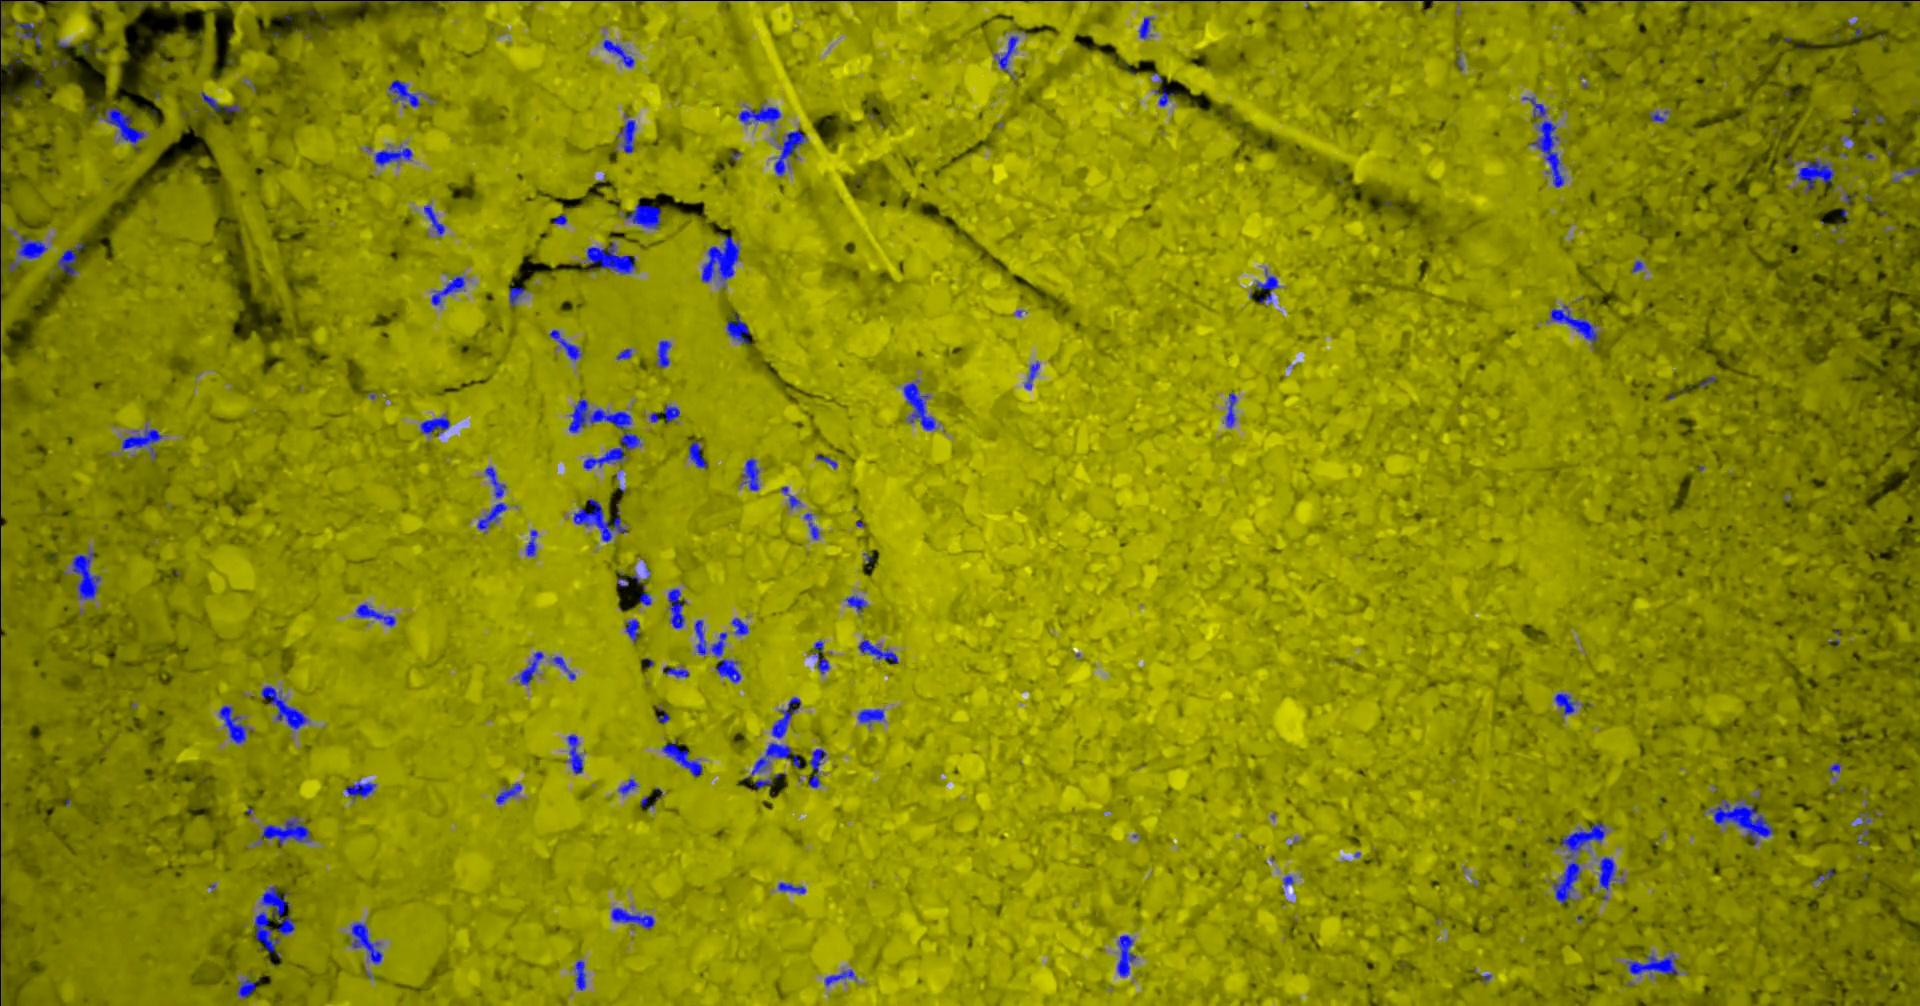ant: (1521, 97, 1564, 187), (695, 619, 740, 682), (573, 498, 627, 541), (260, 685, 307, 729), (1550, 305, 1597, 345), (103, 107, 143, 151), (701, 235, 739, 282), (750, 742, 801, 776), (260, 885, 295, 935), (902, 382, 935, 431), (585, 241, 635, 273), (775, 130, 806, 177), (662, 741, 702, 776), (71, 551, 100, 600), (8, 235, 47, 271), (121, 426, 163, 459), (1796, 158, 1834, 193), (260, 817, 310, 843), (350, 922, 382, 963), (218, 705, 251, 743), (1625, 951, 1677, 976), (253, 911, 279, 956), (771, 696, 800, 737), (549, 329, 582, 359), (430, 276, 465, 305), (56, 243, 85, 276), (611, 907, 654, 929), (201, 91, 243, 113), (356, 603, 395, 626), (858, 639, 898, 662), (993, 36, 1017, 72), (602, 39, 634, 67), (516, 652, 543, 683), (623, 205, 662, 227), (476, 502, 505, 531), (389, 79, 420, 105), (1597, 856, 1622, 890), (1255, 268, 1277, 304), (738, 105, 780, 124), (1116, 934, 1135, 976), (375, 145, 411, 165), (667, 588, 684, 627), (808, 748, 825, 788), (726, 312, 749, 343), (15, 22, 41, 48), (618, 112, 635, 152), (423, 205, 444, 235), (419, 414, 450, 436), (484, 466, 505, 497), (566, 734, 582, 774), (811, 640, 829, 673), (551, 655, 575, 680), (742, 459, 759, 490), (495, 782, 521, 804), (824, 968, 856, 984), (237, 976, 260, 998), (345, 781, 375, 799), (688, 439, 706, 467), (1554, 692, 1577, 714), (857, 708, 883, 725), (780, 486, 800, 508), (1023, 361, 1039, 389), (803, 513, 819, 539), (1153, 86, 1173, 105), (657, 340, 670, 367), (508, 286, 526, 306), (844, 594, 866, 611), (524, 528, 537, 556), (754, 774, 780, 788), (1225, 392, 1236, 427), (574, 959, 585, 989), (1138, 17, 1152, 39), (625, 619, 639, 641), (777, 882, 805, 893), (662, 404, 679, 422), (730, 617, 748, 635), (662, 666, 688, 677), (618, 779, 637, 794), (815, 453, 836, 467), (1812, 868, 1832, 882), (637, 586, 651, 605), (1648, 111, 1669, 122), (615, 348, 631, 359), (1903, 165, 1919, 175), (552, 213, 568, 224), (0, 903, 1, 962)
